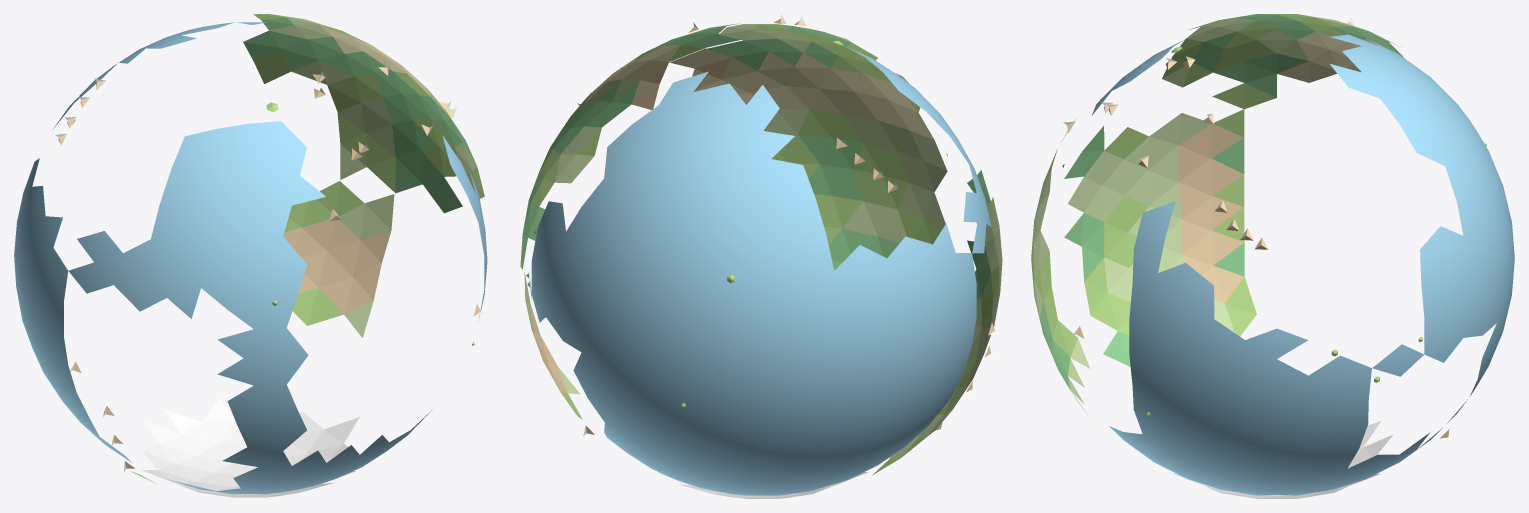
File: earth_lowpoly_mobile.glb
3 views of the same model, side by side, from view 1: azimuth 30°, elevation 25°; view 2: azimuth 150°, elevation 25°; view 3: azimuth 270°, elevation 25° (orthographic). The views are drawn at different scales.
Visible parts, largest first — view 1: Ocean, Asia, Australia, Ice_South, Mountains; view 2: Ocean, Africa, Asia, South_America, Europe, Australia, Mountains, Ice_South; view 3: Ocean, South_America, North_America, Africa, Ice_South, Mountains.
Part boxes in pixels (x1,y1,x2,y2): Ocean: (14,22,487,494); Asia: (243,14,484,213); Australia: (283,181,394,337); Ice_South: (142,397,359,497); Mountains: (55,64,484,472); Ocean: (529,46,991,495); Africa: (670,48,947,270); Asia: (520,23,740,269); South_America: (872,170,1002,475); Europe: (706,24,877,73); Australia: (524,270,582,419); Mountains: (577,14,999,436); Ice_South: (657,472,868,498); Ocean: (1091,34,1514,495); South_America: (1064,109,1256,366); North_America: (1162,14,1403,109); Africa: (1031,119,1090,414); Ice_South: (1172,421,1392,498); Mountains: (1063,17,1451,440).
Size of the model in its own units: 2.07 by 2.03 by 2.03.
